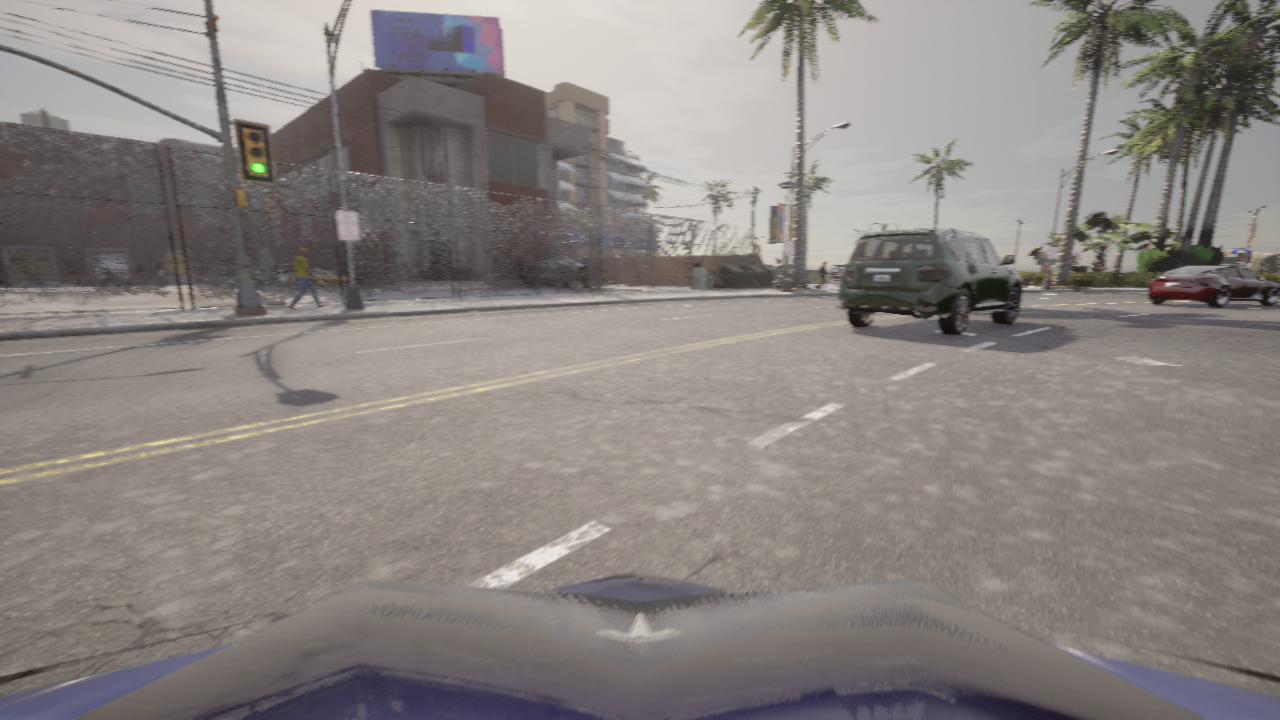cyclist: (0, 569, 1279, 719), (837, 229, 1022, 335), (1147, 266, 1279, 307), (517, 258, 594, 288), (287, 267, 364, 286), (233, 263, 293, 285), (92, 253, 130, 284), (274, 274, 333, 287), (252, 268, 294, 285)
pedestrian: (288, 246, 327, 309), (819, 261, 828, 288)
